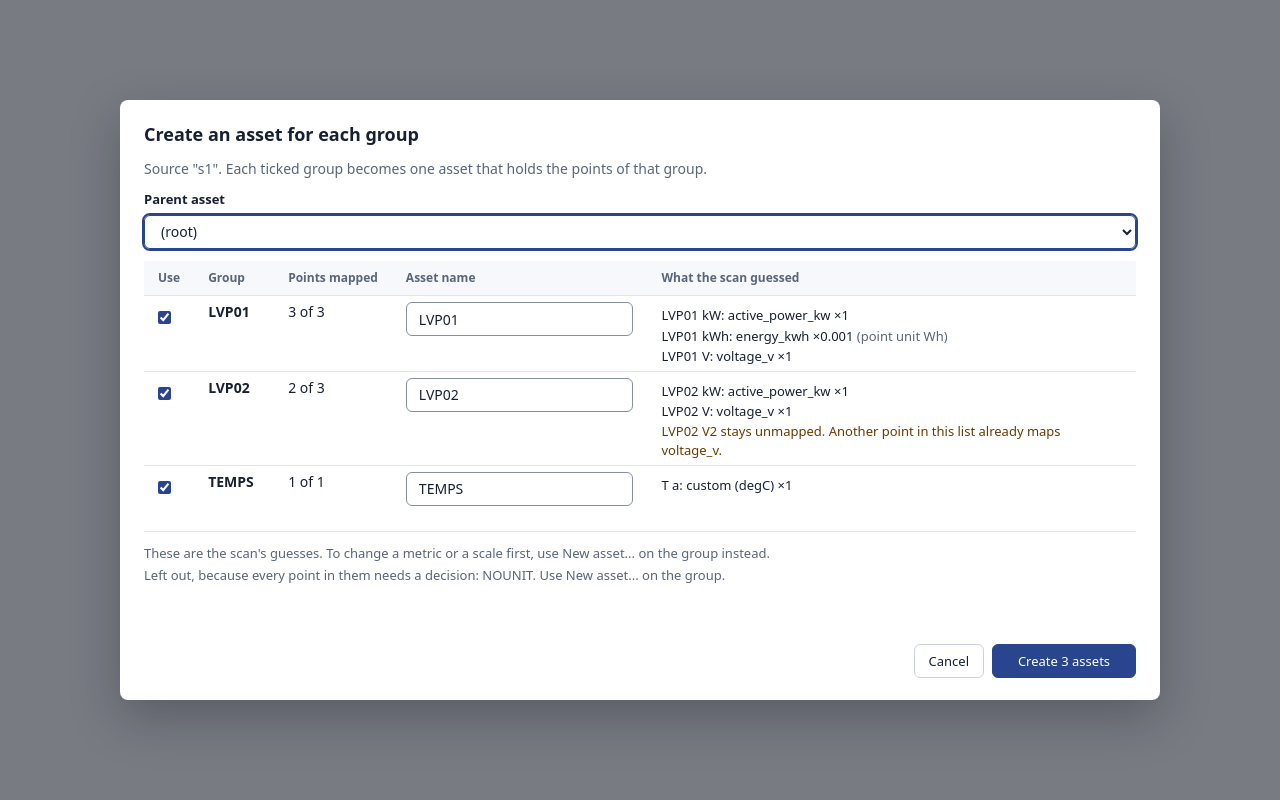
Test: BulkCreateDialog › the sentence under the list after a partial batch (W7r fix wave) › drops the outcome when a group is ticked or unticked
The image size is (1280, 800).
What coordinates should you click on to do the following:
click the button "Create 3 assets"
I would click on:
 (1064, 661)
Its box is [992, 644, 1136, 678].
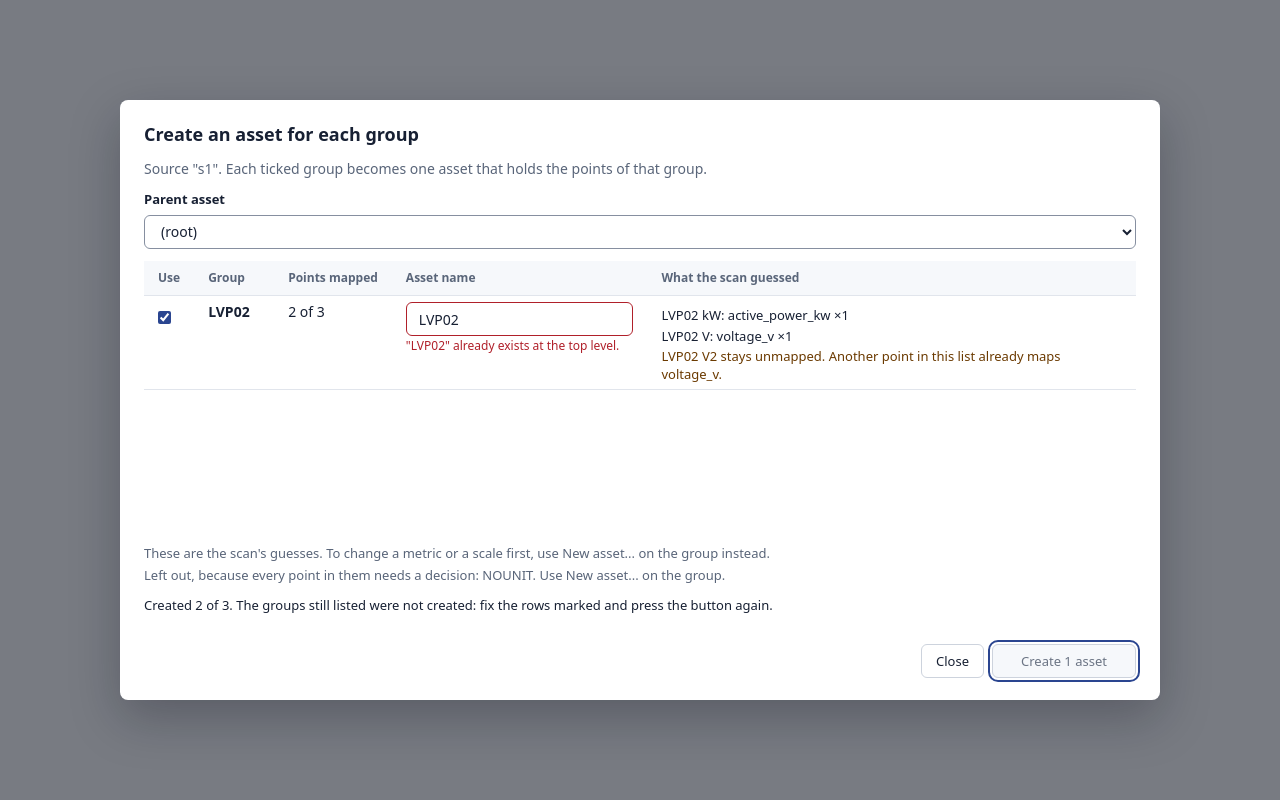
Expected: the text with class "bulk-status" shows "Created 2 of 3. The groups still listed were not created: fix the rows marked and press the button again.", [144, 596, 773, 614]
What coordinates should you click on to do the following:
click the checkbox named "Include LVP02"
I would click on:
 (164, 318)
Its box is [158, 312, 171, 324].
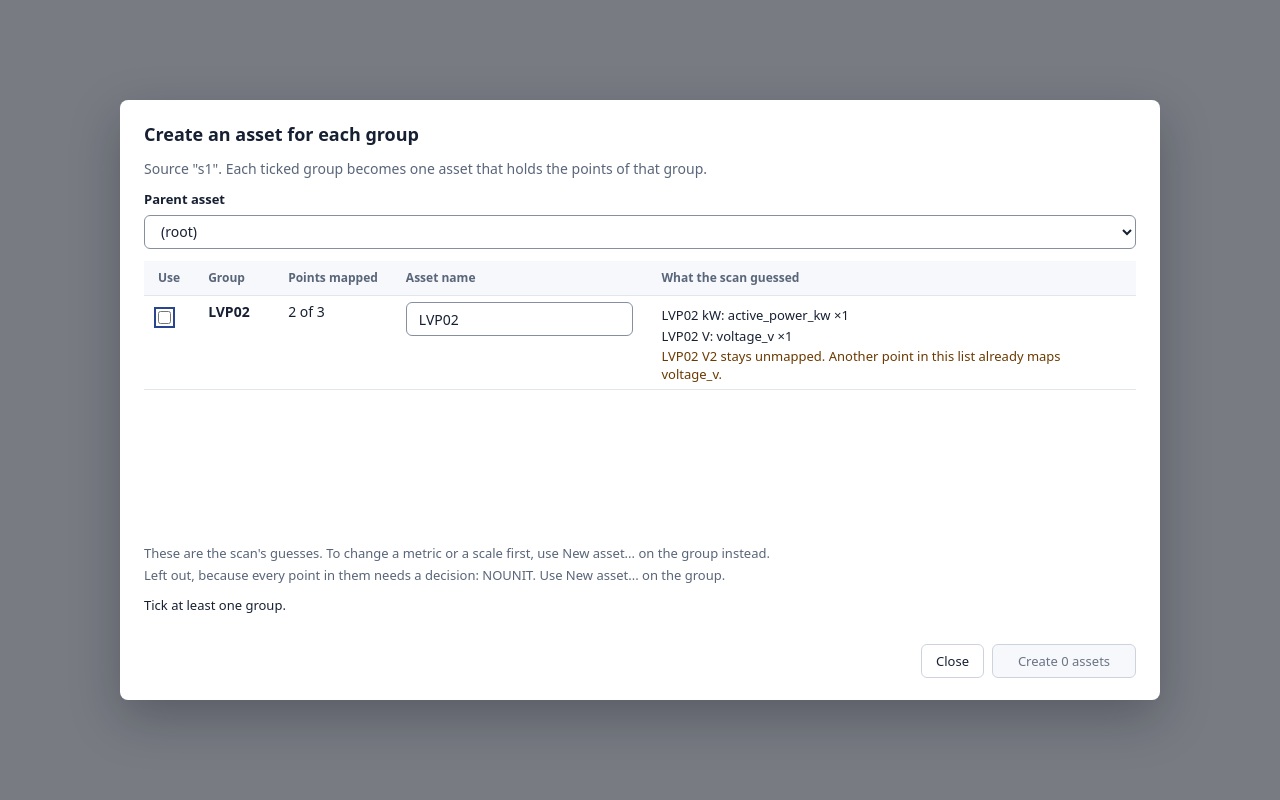
Expected: the text with class "bulk-status" no longer shows "Created 2 of 3"
